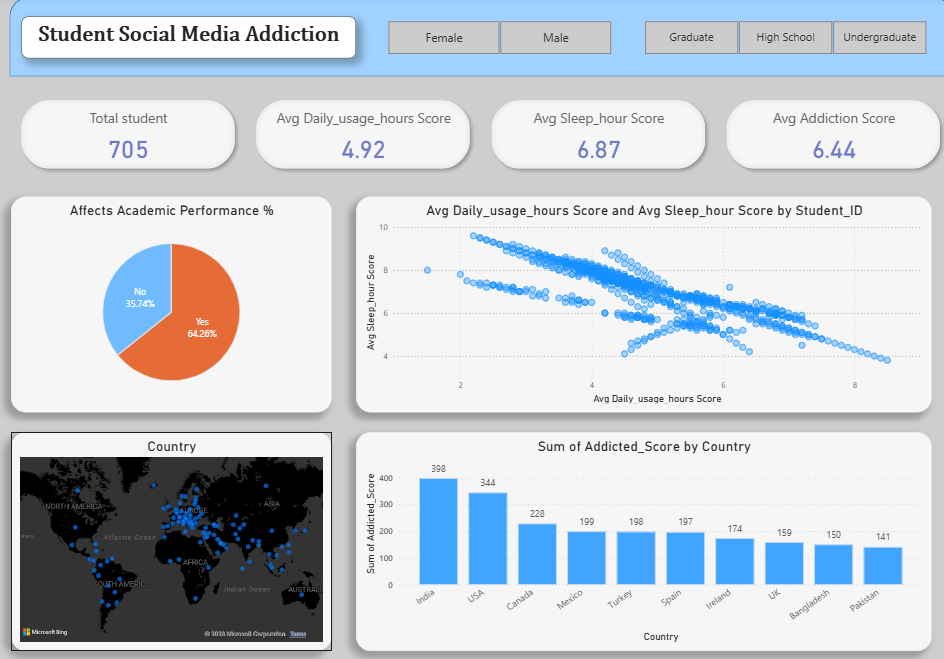

The dashboard page shown, as its layout file describes it:
{"tool":"powerbi","page":{"name":"Page 1","canvas":[1400,974],"ordinal":0},"visuals":[{"type":"cardVisual","fields":{"Data":["studentSocialMediaaddiction.Total student","studentSocialMediaaddiction.Avg Daily_usage_hours Score","studentSocialMediaaddiction.Avg Sleep_hour Score","studentSocialMediaaddiction.Avg Addiction Score"]},"box":[15.4,116.6,1384,151.8],"z":0},{"type":"pieChart","title":"Affects Academic Performance %","fields":{"Category":["studentSocialMediaaddiction.Affects_Academic_Performance"],"Y":["CountNonNull(studentSocialMediaaddiction.Student_ID)"]},"box":[17.6,292.6,470.9,316.9],"z":1000},{"type":"scatterChart","fields":{"X":["studentSocialMediaaddiction.Avg Daily_usage_hours Score"],"Y":["studentSocialMediaaddiction.Avg Sleep_hour Score"],"Category":["studentSocialMediaaddiction.Student_ID"]},"box":[523.7,292.6,844.9,316.9],"z":2000},{"type":"clusteredColumnChart","fields":{"Category":["studentSocialMediaaddiction.Country"],"Y":["Sum(studentSocialMediaaddiction.Addicted_Score)"]},"box":[523.7,638.1,844.9,321.3],"z":3000},{"type":"shape","box":[15.4,0,1384,116.6],"z":4000},{"type":"textbox","box":[33,28.6,490.7,61.6],"z":5000},{"type":"map","fields":{"Category":["studentSocialMediaaddiction.Country"]},"box":[17.6,638.1,470.9,321.3],"z":6000},{"type":"slicer","fields":{"Values":["studentSocialMediaaddiction.Gender"]},"box":[545.7,28.6,376.3,61.6],"z":7000},{"type":"slicer","fields":{"Values":["studentSocialMediaaddiction.Academic_Level"]},"box":[921.9,28.6,462.1,61.6],"z":8000}]}

Visuals, with their boxes in screenshot pixels (x1, y1, x2, y2), scaled from the page's 1400x974 canvas onto the 944x659 screenshot:
cardVisual - studentSocialMediaaddiction.Total student x studentSocialMediaaddiction.Avg Daily_usage_hours Score: bbox(10, 79, 943, 182)
"Affects Academic Performance %" pieChart: bbox(12, 198, 329, 412)
scatterChart - studentSocialMediaaddiction.Avg Daily_usage_hours Score x studentSocialMediaaddiction.Avg Sleep_hour Score: bbox(353, 198, 923, 412)
clusteredColumnChart - studentSocialMediaaddiction.Country x Sum(studentSocialMediaaddiction.Addicted_Score): bbox(353, 432, 923, 649)
shape: bbox(10, 0, 943, 79)
textbox: bbox(22, 19, 353, 61)
map - studentSocialMediaaddiction.Country: bbox(12, 432, 329, 649)
slicer - studentSocialMediaaddiction.Gender: bbox(368, 19, 622, 61)
slicer - studentSocialMediaaddiction.Academic_Level: bbox(622, 19, 933, 61)
